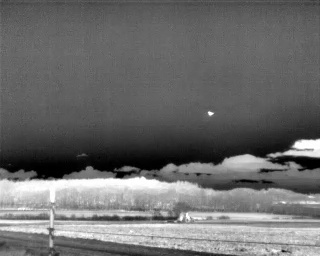DRONE: (205, 107, 217, 119)
